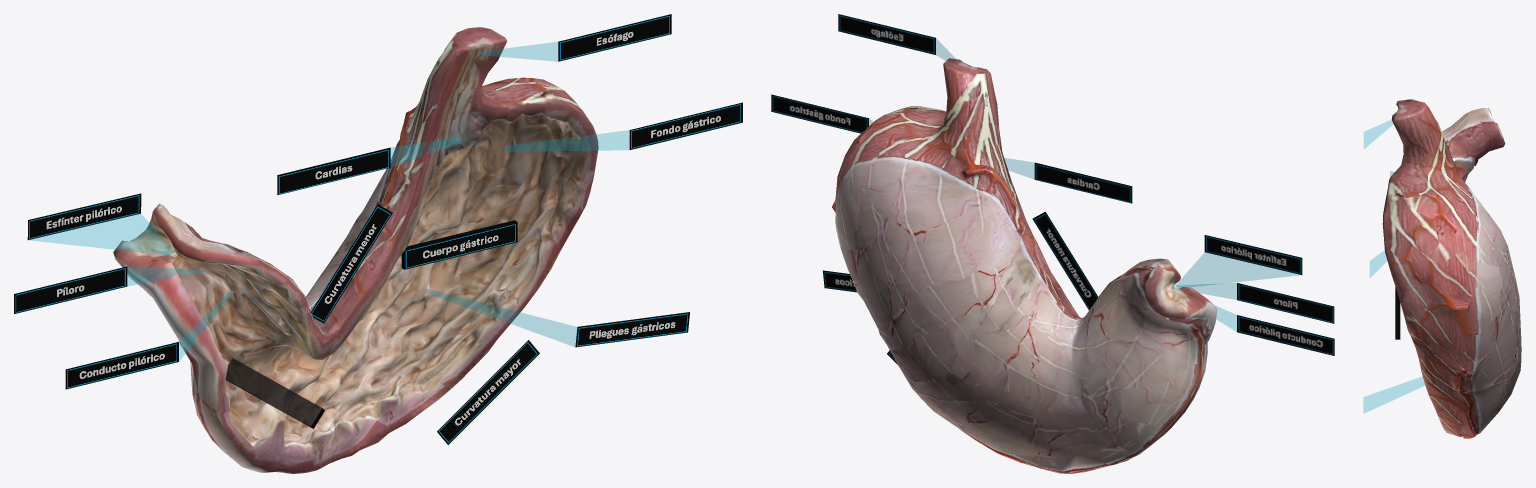
The model's file is Estomago.fbx.
The picture shows the model from 3 angles, left to right: view 1: azimuth 30°, elevation 25°; view 2: azimuth 150°, elevation 25°; view 3: azimuth 270°, elevation 25°; orthographic projection. The views are drawn at different scales.
Visible parts, largest first — view 1: estomago, Tag_Esfinter, Tag_PlieguesGastricos, Tag_FondoGastrico, Tag_Esofago, Tag_Cardias, Tag_Piloro, Tag_ConductoPilorico, Tag_CuerpoGastrico, Tag_Antro, Tag_CurvaturaMenor, Tag_CurvaturaMayor; view 2: estomago, Tag_Esfinter, Tag_Piloro, Tag_Cardias, Tag_ConductoPilorico, Tag_Esofago, Tag_FondoGastrico, Tag_CurvaturaMenor; view 3: estomago, Tag_PlieguesGastricos, Tag_Esofago, Tag_Antro, Tag_FondoGastrico.
Boxes of the visible parts, x1,y1,x2,y2 form: estomago: (113,27,598,473); Tag_Esfinter: (27,193,174,255); Tag_PlieguesGastricos: (425,289,689,347); Tag_FondoGastrico: (506,102,742,151); Tag_Esofago: (481,14,671,61); Tag_Cardias: (277,137,461,195); Tag_Piloro: (14,266,202,313); Tag_ConductoPilorico: (65,290,231,389); Tag_CuerpoGastrico: (401,220,517,269); Tag_Antro: (225,358,325,428); Tag_CurvaturaMenor: (311,204,392,323); Tag_CurvaturaMayor: (437,340,539,444); estomago: (832,58,1217,473); Tag_Esfinter: (1176,235,1302,287); Tag_Piloro: (1173,283,1334,323); Tag_Cardias: (1004,158,1132,203); Tag_ConductoPilorico: (1173,287,1334,355); Tag_Esofago: (838,14,955,60); Tag_FondoGastrico: (771,94,872,133); Tag_CurvaturaMenor: (1032,211,1098,310); estomago: (1382,98,1521,438); Tag_PlieguesGastricos: (1363,376,1424,413); Tag_Esofago: (1364,120,1392,148); Tag_Antro: (1395,287,1400,339); Tag_FondoGastrico: (1370,250,1386,277).
Size of the model in its own units: 314 by 182 by 70.14.
4 materials, 2 textured.
